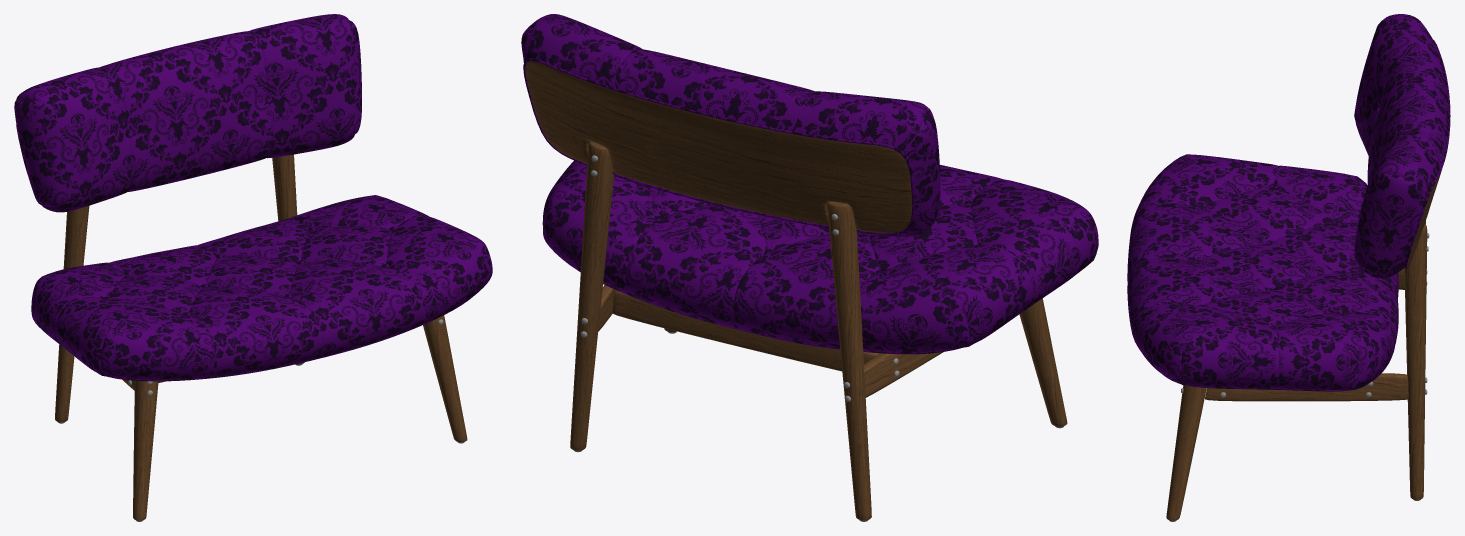
Rendered from gltf_sheen_damask.gltf.
3 renders of one model, left to right at view 1: azimuth 30°, elevation 25°; view 2: azimuth 150°, elevation 25°; view 3: azimuth 270°, elevation 25°, orthographic. The views are drawn at different scales.
Parts seen in each view (by area): view 1: oval-tufted-chair_seat-fabric, oval-tufted-chair_back-fabric, oval-tufted-chair_legs-frame; view 2: oval-tufted-chair_seat-fabric, oval-tufted-chair_back-panel, oval-tufted-chair_legs-frame, oval-tufted-chair_back-fabric, oval-tufted-chair_back-welt; view 3: oval-tufted-chair_seat-fabric, oval-tufted-chair_back-fabric, oval-tufted-chair_legs-frame, oval-tufted-chair_back-welt, oval-tufted-chair_back-panel.
Boxes of the visible parts, left/top/right/bottom form: oval-tufted-chair_seat-fabric: left=31, top=195, right=492, bottom=380; oval-tufted-chair_back-fabric: left=14, top=14, right=361, bottom=212; oval-tufted-chair_legs-frame: left=55, top=154, right=467, bottom=520; oval-tufted-chair_seat-fabric: left=542, top=160, right=1098, bottom=353; oval-tufted-chair_back-panel: left=525, top=61, right=911, bottom=232; oval-tufted-chair_legs-frame: left=570, top=141, right=1067, bottom=520; oval-tufted-chair_back-fabric: left=521, top=14, right=940, bottom=236; oval-tufted-chair_back-welt: left=523, top=58, right=914, bottom=234; oval-tufted-chair_seat-fabric: left=1127, top=154, right=1398, bottom=389; oval-tufted-chair_back-fabric: left=1354, top=14, right=1449, bottom=278; oval-tufted-chair_legs-frame: left=1166, top=221, right=1427, bottom=520; oval-tufted-chair_back-welt: left=1404, top=40, right=1450, bottom=268; oval-tufted-chair_back-panel: left=1406, top=170, right=1441, bottom=265.
Size of the model in its own units: 32.54 by 27.02 by 22.45.
Materials: 4 (3 with a texture image).
